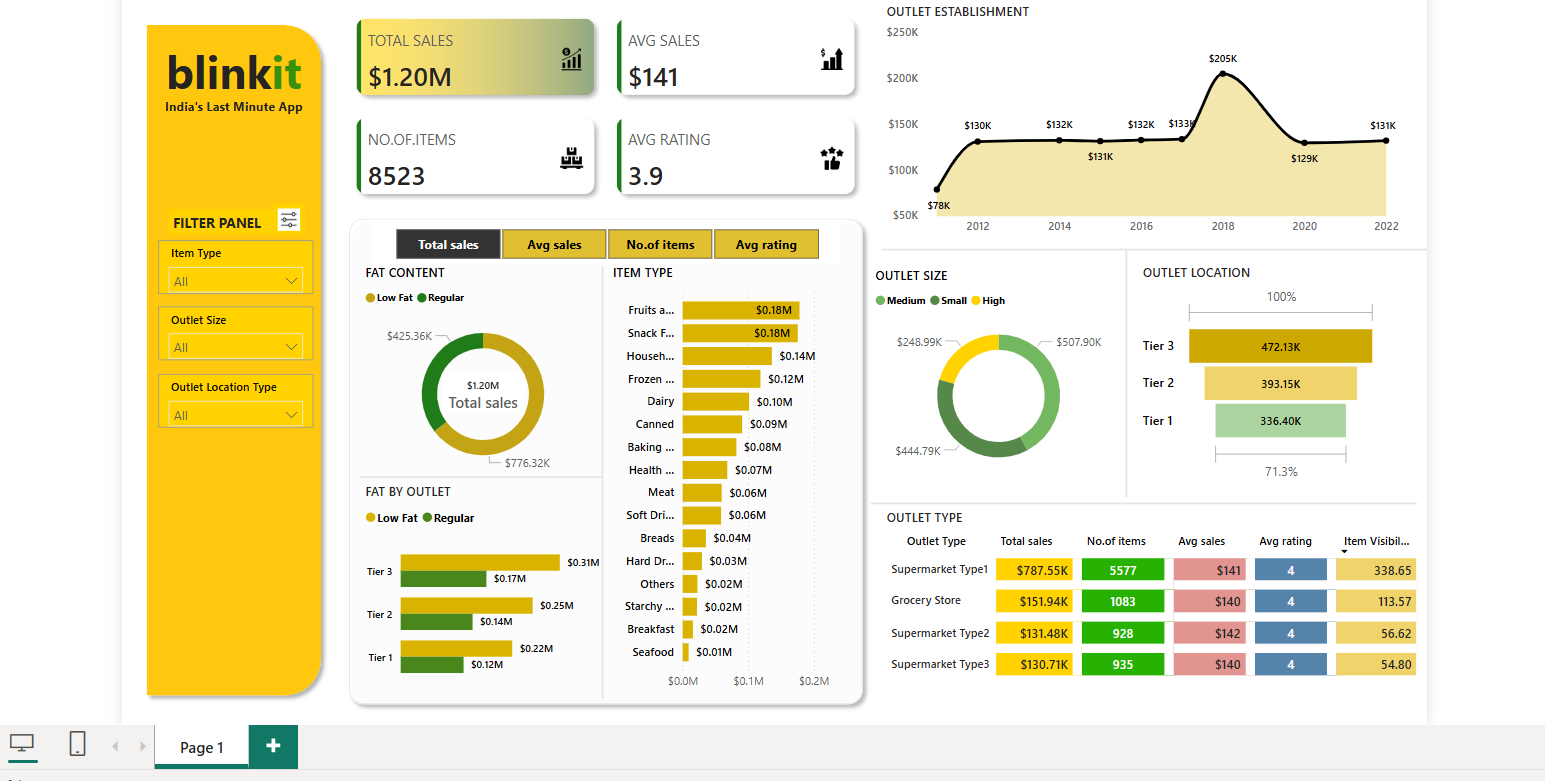

This screenshot's page, from the dashboard's own definition file:
{"tool":"powerbi","page":{"name":"Page 1","canvas":[1400,800],"ordinal":0},"visuals":[{"type":"shape","box":[17.4,40.2,205.1,737.3],"z":0},{"type":"textbox","box":[31.5,121.6,175.6,28.5],"z":1000},{"type":"textbox","box":[27,61.5,186.1,75],"z":2000},{"type":"cardVisual","fields":{"Data":["BlinkIT Grocery Data.Total sales","BlinkIT Grocery Data.Avg sales","BlinkIT Grocery Data.No.of items","BlinkIT Grocery Data.Avg rating"]},"box":[234.1,25.5,568.8,222.1],"z":3000},{"type":"shape","box":[234.1,247.6,568.8,538.8],"z":4000},{"type":"slicer","fields":{"Values":["Parameter.Parameter"]},"box":[268.7,261.2,502.8,45],"z":5000},{"type":"donutChart","title":"FAT CONTENT","fields":{"Y":["BlinkIT Grocery Data.Total sales"],"Category":["BlinkIT Grocery Data.Item Fat Content"]},"box":[256.6,306.2,262.7,234.1],"z":6000},{"type":"cardVisual","fields":{"Data":["BlinkIT Grocery Data.Total sales"]},"box":[343.7,423.2,88.6,43.5],"z":7000},{"type":"clusteredBarChart","title":"FAT BY OUTLET","fields":{"Y":["BlinkIT Grocery Data.Total sales"],"Series":["BlinkIT Grocery Data.Item Fat Content"],"Category":["BlinkIT Grocery Data.Outlet Location Type"]},"box":[256.6,540.3,262.7,229.6],"z":8000},{"type":"shape","box":[256.6,528.3,258.1,12],"z":9000},{"type":"shape","box":[508.8,307.7,12,463.8],"z":10000},{"type":"barChart","title":"ITEM TYPE","fields":{"Y":["BlinkIT Grocery Data.Total sales"],"Category":["BlinkIT Grocery Data.Item Type"]},"box":[520.8,306.2,267.2,465.3],"z":11000},{"type":"lineChart","title":"OUTLET ESTABLISHMENT","fields":{"Category":["BlinkIT Grocery Data.Outlet Establishment Year"],"Y":["BlinkIT Grocery Data.Total sales"]},"box":[815,25.5,559.8,258.1],"z":12000},{"type":"shape","box":[815,283.7,585.3,12],"z":13000},{"type":"donutChart","title":"OUTLET SIZE","fields":{"Y":["BlinkIT Grocery Data.Total sales"],"Category":["BlinkIT Grocery Data.Outlet Size"]},"box":[803,307.7,274.7,232.6],"z":14000},{"type":"shape","box":[1064.1,291.2,25.5,265.7],"z":15000},{"type":"funnel","title":"OUTLET LOCATION","fields":{"Category":["BlinkIT Grocery Data.Outlet Location Type"],"Y":["Sum(BlinkIT Grocery Data.Sales)"]},"box":[1089.6,306.2,261.2,238.6],"z":16000},{"type":"pivotTable","title":"OUTLET TYPE","fields":{"Values":["BlinkIT Grocery Data.Total sales","BlinkIT Grocery Data.No.of items","BlinkIT Grocery Data.Avg sales","BlinkIT Grocery Data.Avg rating","Sum(BlinkIT Grocery Data.Item Visibility)"],"Rows":["BlinkIT Grocery Data.Outlet Type"]},"box":[815,568.8,585.3,217.6],"z":17000},{"type":"shape","box":[803,556.8,585.3,12],"z":18000},{"type":"slicer","fields":{"Values":["BlinkIT Grocery Data.Outlet Location Type"]},"box":[38.9,423.6,166.2,57.6],"z":19000},{"type":"slicer","fields":{"Values":["BlinkIT Grocery Data.Outlet Size"]},"box":[38.9,351.2,166.2,57.6],"z":20000},{"type":"slicer","fields":{"Values":["BlinkIT Grocery Data.Item Type"]},"box":[38.9,280.2,166.2,57.6],"z":21000},{"type":"textbox","box":[49.6,246.7,146.1,28.2],"z":22000},{"type":"image","box":[162.2,241.3,33.5,33.5],"z":23000}]}

Visuals, with their boxes on the page's 1400x800 design canvas (x1, y1, x2, y2). These are canvas units, not pixel positions in the 1545x781 screenshot, which may show the page scaled, cropped or inside an application window:
shape: bbox=[17, 40, 222, 778]
textbox: bbox=[32, 122, 207, 150]
textbox: bbox=[27, 62, 213, 136]
cardVisual - BlinkIT Grocery Data.Total sales x BlinkIT Grocery Data.Avg sales: bbox=[234, 26, 803, 248]
shape: bbox=[234, 248, 803, 786]
slicer - Parameter.Parameter: bbox=[269, 261, 772, 306]
"FAT CONTENT" donutChart: bbox=[257, 306, 519, 540]
cardVisual - BlinkIT Grocery Data.Total sales: bbox=[344, 423, 432, 467]
"FAT BY OUTLET" clusteredBarChart: bbox=[257, 540, 519, 770]
shape: bbox=[257, 528, 515, 540]
shape: bbox=[509, 308, 521, 772]
"ITEM TYPE" barChart: bbox=[521, 306, 788, 772]
"OUTLET ESTABLISHMENT" lineChart: bbox=[815, 26, 1375, 284]
shape: bbox=[815, 284, 1400, 296]
"OUTLET SIZE" donutChart: bbox=[803, 308, 1078, 540]
shape: bbox=[1064, 291, 1090, 557]
"OUTLET LOCATION" funnel: bbox=[1090, 306, 1351, 545]
"OUTLET TYPE" pivotTable: bbox=[815, 569, 1400, 786]
shape: bbox=[803, 557, 1388, 569]
slicer - BlinkIT Grocery Data.Outlet Location Type: bbox=[39, 424, 205, 481]
slicer - BlinkIT Grocery Data.Outlet Size: bbox=[39, 351, 205, 409]
slicer - BlinkIT Grocery Data.Item Type: bbox=[39, 280, 205, 338]
textbox: bbox=[50, 247, 196, 275]
image: bbox=[162, 241, 196, 275]
